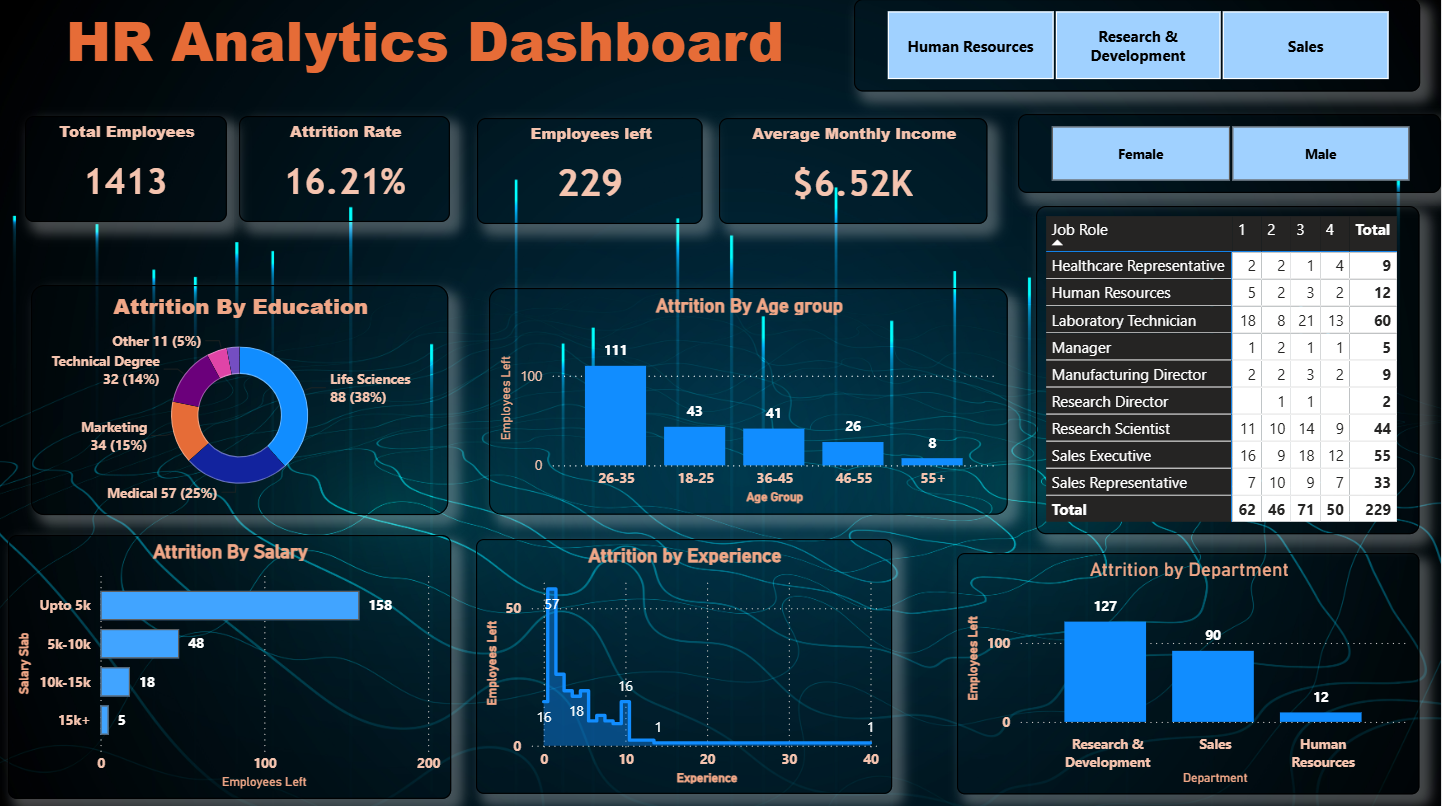

The dashboard page shown, as its layout file describes it:
{"tool":"powerbi","page":{"name":"Page 1","canvas":[1280,720],"ordinal":0},"visuals":[{"type":"cardVisual","title":"Total Employees","fields":{"Data":["HR_Analytics.Total Employees"]},"box":[24.5,106.7,178.7,93.7],"z":0},{"type":"cardVisual","title":"Attrition Rate","fields":{"Data":["HR_Analytics.Attrition Rate"]},"box":[214.8,106.7,187.4,93.7],"z":1000},{"type":"cardVisual","title":"Employees left","fields":{"Data":["HR_Analytics.Employees Left"]},"box":[425.2,108.1,200.4,93.7],"z":2000},{"type":"cardVisual","title":"Average Monthly Income","fields":{"Data":["HR_Analytics.Average Monthly Income"]},"box":[640,108.1,237.8,93.7],"z":3000},{"type":"slicer","title":"Average Monthly Income","fields":{"Values":["HR_Analytics.Gender"]},"box":[905,105,375,70],"z":4000},{"type":"textbox","box":[10.1,0,739.5,85],"z":5000},{"type":"slicer","title":"Average Monthly Income","fields":{"Values":["HR_Analytics.Department"]},"box":[759.6,2.9,501.6,82.2],"z":6000},{"type":"donutChart","title":"Attrition By Education","fields":{"Category":["HR_Analytics.Education Field"],"Y":["HR_Analytics.Employees Left"]},"box":[30,256.2,370,203.8],"z":7000},{"type":"clusteredColumnChart","title":"Attrition By Age group","fields":{"Category":["HR_Analytics.Age Group"],"Y":["HR_Analytics.Employees Left"]},"box":[436.2,258.8,460,201.2],"z":8000},{"type":"pivotTable","title":"Job satisfaction Levels","fields":{"Rows":["HR_Analytics.Job Role"],"Columns":["HR_Analytics.Job Satisfaction"],"Values":["HR_Analytics.Employees Left"]},"box":[921.2,186.2,340,291.2],"z":9000},{"type":"barChart","title":"Attrition By Salary","fields":{"Category":["HR_Analytics.Salary Slab"],"Y":["HR_Analytics.Employees Left"]},"box":[10,477.5,392.5,233.8],"z":10000},{"type":"lineChart","title":"Attrition by Experience","fields":{"Category":["HR_Analytics.Years At Company"],"Y":["HR_Analytics.Employees Left"]},"box":[425,481.2,368.8,226.2],"z":11000},{"type":"columnChart","title":"Attrition by Department","fields":{"Category":["HR_Analytics.Department"],"Y":["HR_Analytics.Employees Left"]},"box":[851.2,493.8,410,213.8],"z":12000}]}

Visuals, with their boxes in screenshot pixels (x1, y1, x2, y2), scaled from the page's 1280x720 canvas onto the 1442x806 screenshot:
"Total Employees" cardVisual: box(28, 119, 229, 224)
"Attrition Rate" cardVisual: box(242, 119, 453, 224)
"Employees left" cardVisual: box(479, 121, 705, 226)
"Average Monthly Income" cardVisual: box(721, 121, 989, 226)
"Average Monthly Income" slicer: box(1020, 118, 1441, 196)
textbox: box(11, 0, 844, 95)
"Average Monthly Income" slicer: box(856, 3, 1421, 95)
"Attrition By Education" donutChart: box(34, 287, 451, 515)
"Attrition By Age group" clusteredColumnChart: box(491, 290, 1010, 515)
"Job satisfaction Levels" pivotTable: box(1038, 208, 1421, 534)
"Attrition By Salary" barChart: box(11, 535, 453, 796)
"Attrition by Experience" lineChart: box(479, 539, 894, 792)
"Attrition by Department" columnChart: box(959, 553, 1421, 792)
